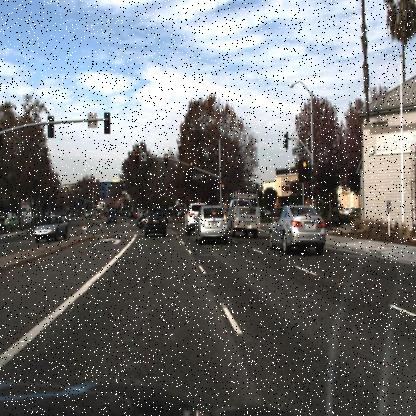car: (269, 201, 327, 256), (224, 190, 262, 234), (194, 202, 229, 245), (226, 194, 259, 238), (31, 211, 70, 246), (33, 211, 68, 240), (142, 206, 168, 236), (143, 208, 167, 240), (183, 200, 202, 236), (133, 207, 147, 231), (105, 204, 118, 226), (106, 207, 117, 226), (58, 210, 69, 227)
trafficLight: (219, 178, 225, 193)
trafficLight-Red: (299, 152, 309, 185), (300, 159, 309, 181), (163, 151, 170, 167), (189, 158, 196, 174), (163, 150, 169, 166), (189, 159, 194, 174)
trafficLight-RedLeft: (133, 150, 140, 167), (132, 148, 139, 162)
